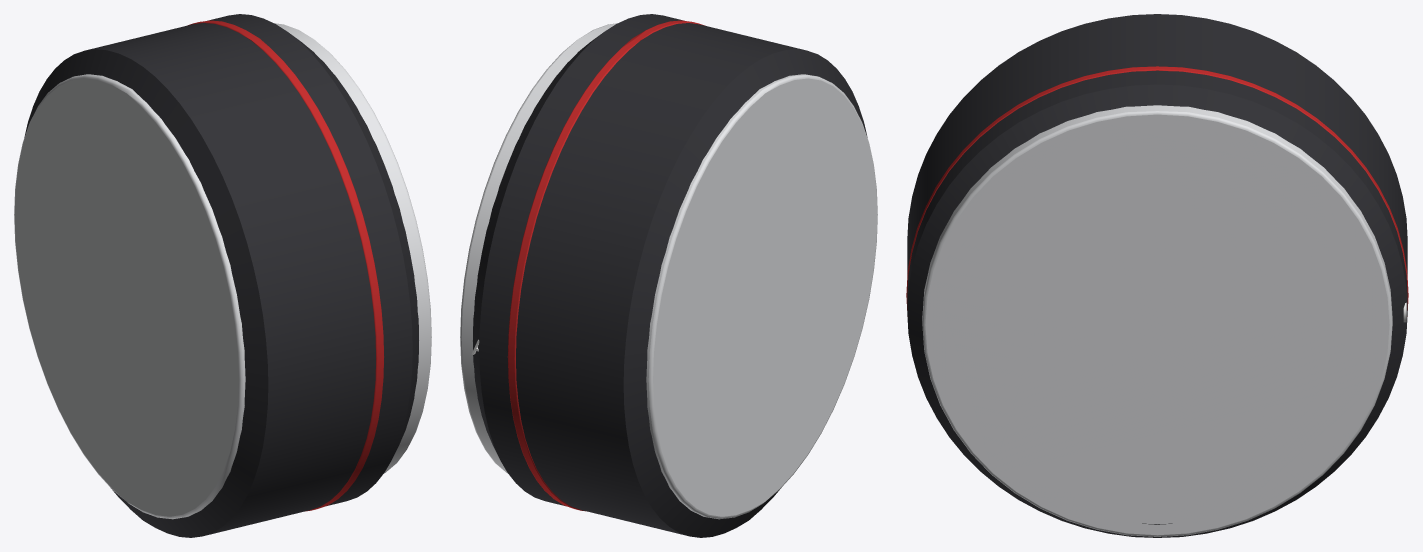
The picture shows the model from 3 angles, left to right: view 1: azimuth 30°, elevation 25°; view 2: azimuth 150°, elevation 25°; view 3: azimuth 270°, elevation 25°; orthographic projection.
Parts seen in each view (by area): view 1: Adaptador PL-E; view 2: Adaptador PL-E; view 3: Adaptador PL-E.
Boxes of the visible parts, <box> form: Adaptador PL-E: <box>14,14,431,537</box>; Adaptador PL-E: <box>460,14,877,537</box>; Adaptador PL-E: <box>906,14,1408,537</box>.
Bounding box in the file's own units: 0.0342 × 0.0781 × 0.0782.
